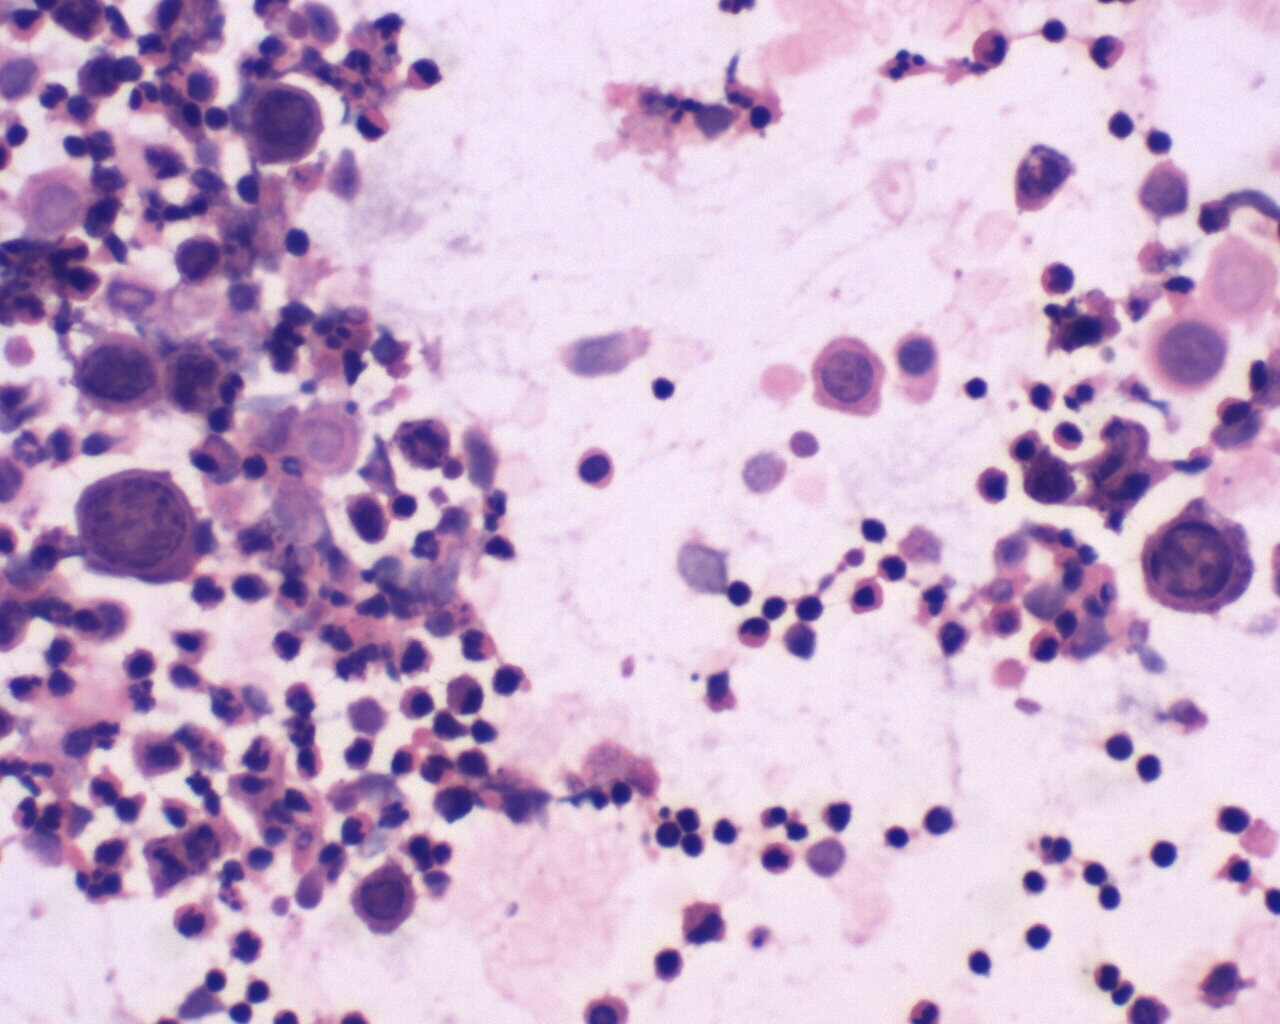ab: (70, 463, 197, 594), (1137, 497, 1259, 623), (66, 328, 166, 422), (243, 72, 326, 169), (809, 326, 892, 417), (348, 855, 420, 946), (164, 343, 227, 419), (171, 227, 222, 287)
lymph: (922, 795, 959, 845), (1103, 103, 1143, 144), (647, 367, 684, 409), (707, 812, 747, 850), (277, 222, 313, 262), (857, 511, 894, 549), (965, 942, 999, 984), (881, 820, 915, 858), (724, 575, 759, 608), (200, 961, 232, 996), (1106, 729, 1137, 765), (1023, 917, 1052, 952), (1151, 836, 1180, 869)
neutro: (84, 765, 125, 811), (353, 104, 397, 147), (971, 24, 1011, 69), (1090, 31, 1130, 73), (408, 53, 446, 94)
